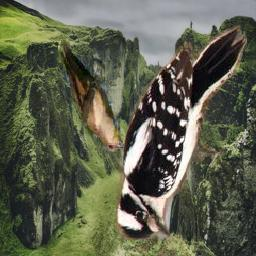Cuckoo: (57, 38, 124, 153)
Woodpecker: (115, 22, 248, 241)
